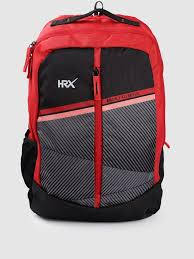backpack: (20, 0, 169, 222)
